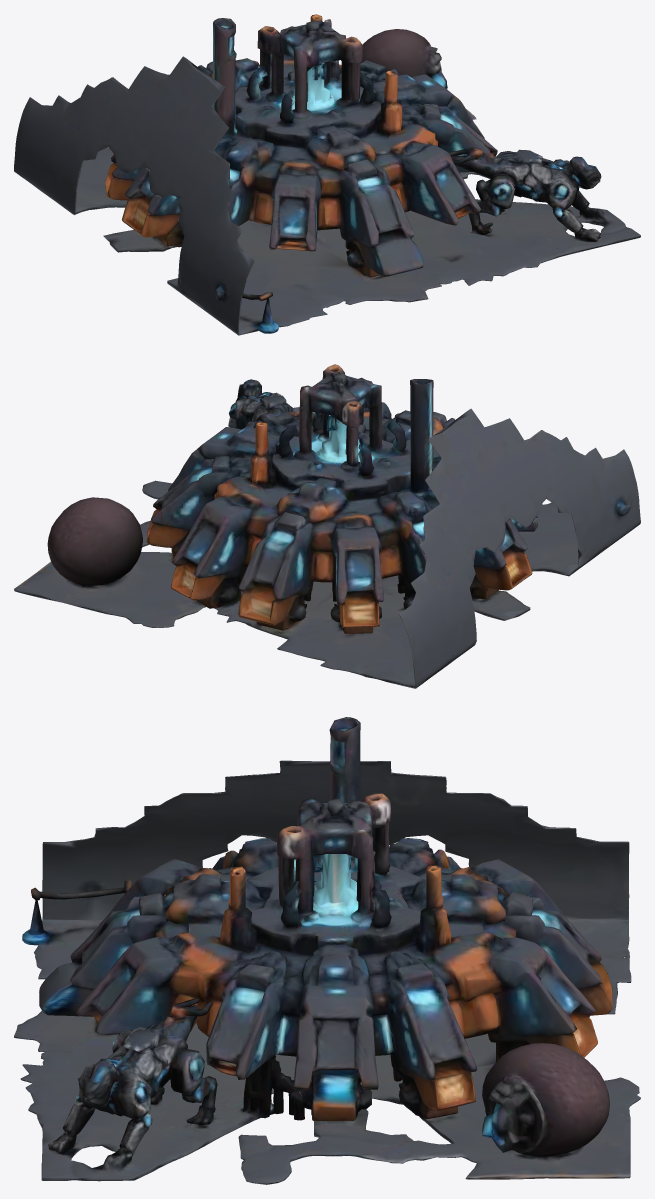
The model's file is cyber-base-2.glb.
The picture shows the model from 3 angles, top to bottom: view 1: azimuth 30°, elevation 25°; view 2: azimuth 150°, elevation 25°; view 3: azimuth 270°, elevation 25°; orthographic projection. The views are drawn at different scales.
Visible parts, largest first — view 1: tripo_node_a97af2af-078d-4517-b7ed-4ad95f207784; view 2: tripo_node_a97af2af-078d-4517-b7ed-4ad95f207784; view 3: tripo_node_a97af2af-078d-4517-b7ed-4ad95f207784.
Boxes of the visible parts, x1,y1,x2,y2 form: tripo_node_a97af2af-078d-4517-b7ed-4ad95f207784: [14, 14, 640, 335]; tripo_node_a97af2af-078d-4517-b7ed-4ad95f207784: [14, 364, 640, 688]; tripo_node_a97af2af-078d-4517-b7ed-4ad95f207784: [14, 717, 640, 1184].
Bounding box in the file's own units: 0.9998 × 0.4688 × 1.
Materials: 1 (1 with a texture image).
